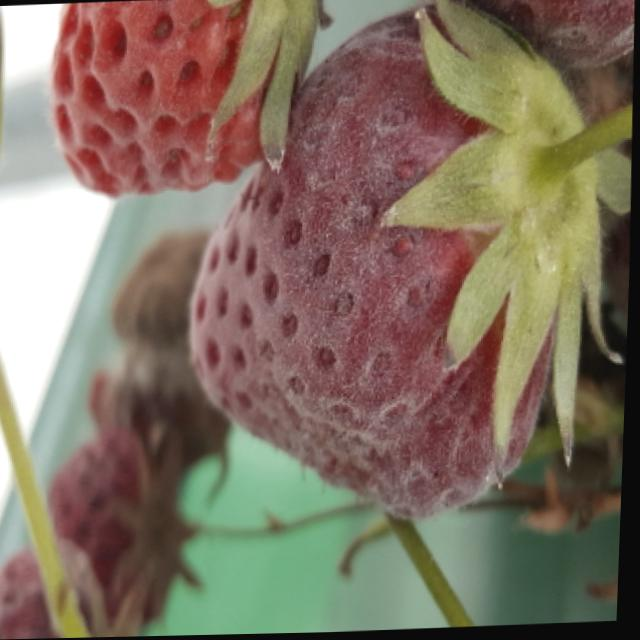Powdery Mildew Fruit: (188, 3, 599, 524), (433, 0, 634, 70)
